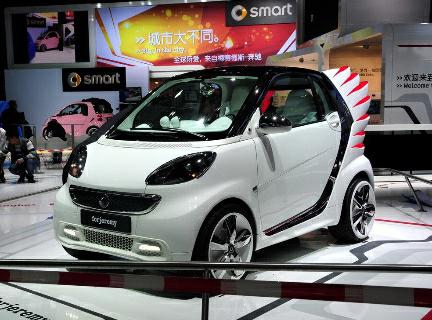smart-forjeremy: (56, 72, 372, 259)
